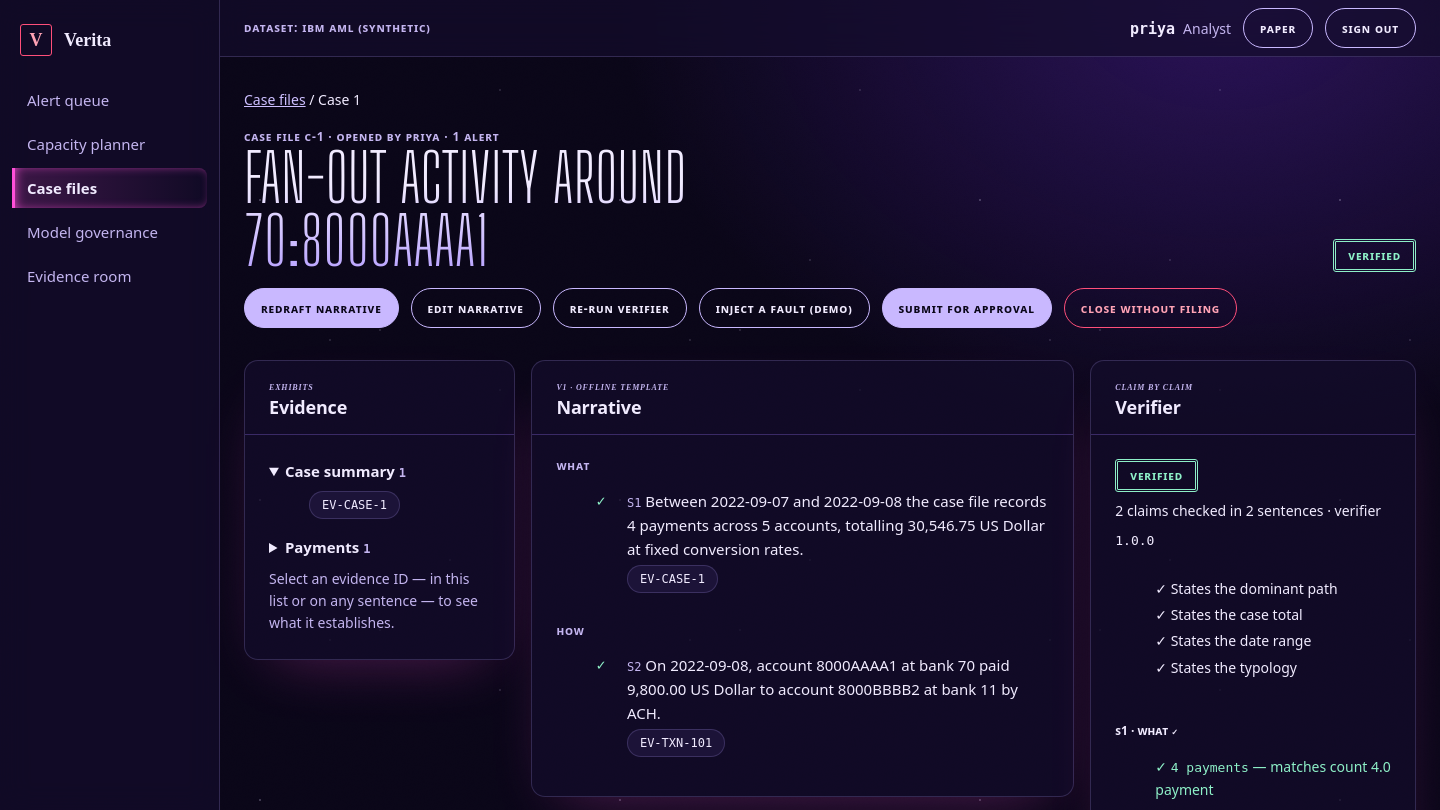
selecting a citation previews the evidence it points to
What coordinates should you click on to do the following:
click the button "EV-TXN-101"
I would click on:
 (676, 743)
Its box is [627, 729, 725, 757].
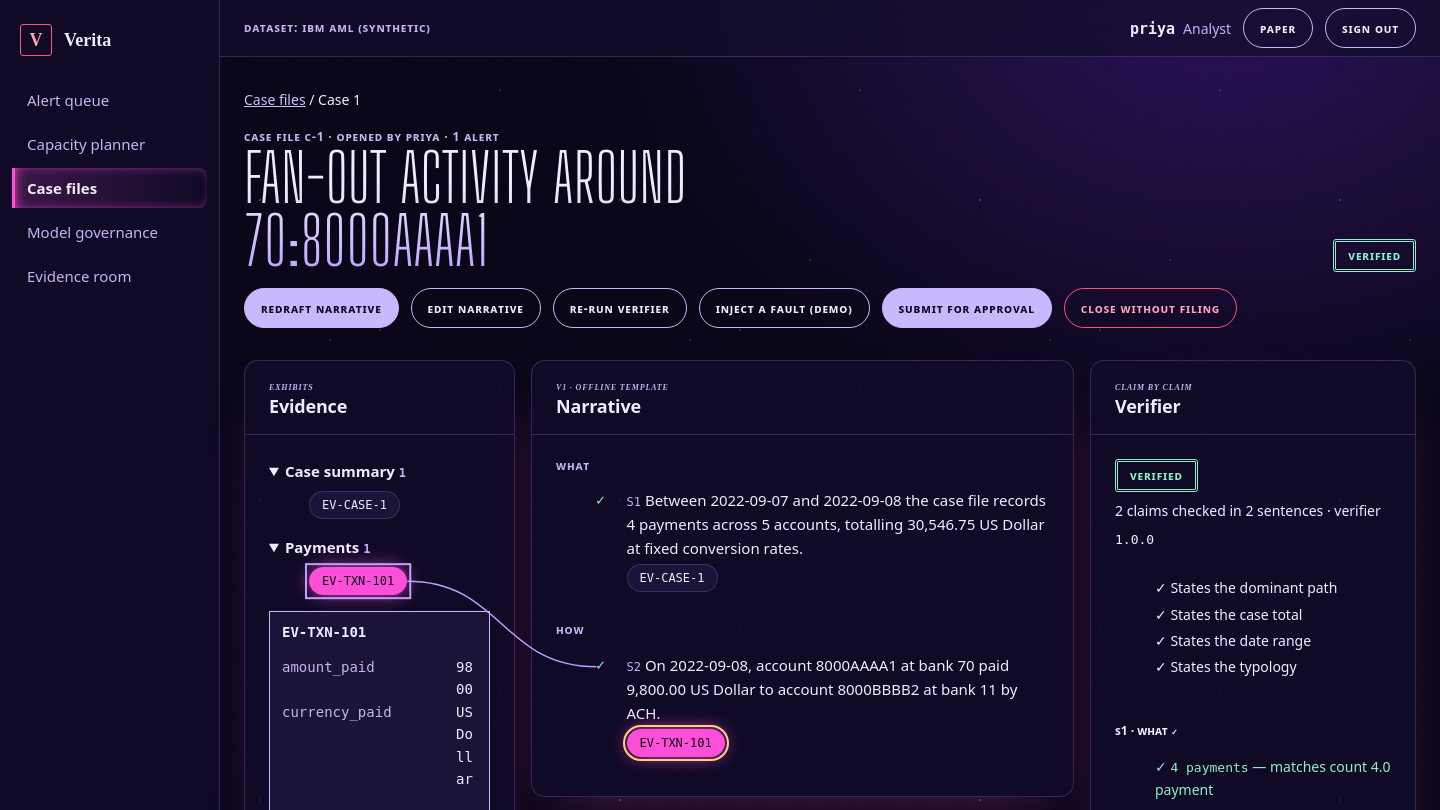
Now the text "amount_paid" is shown, box [282, 659, 375, 675]
Now the text "9800" is shown, box [456, 659, 473, 698]
